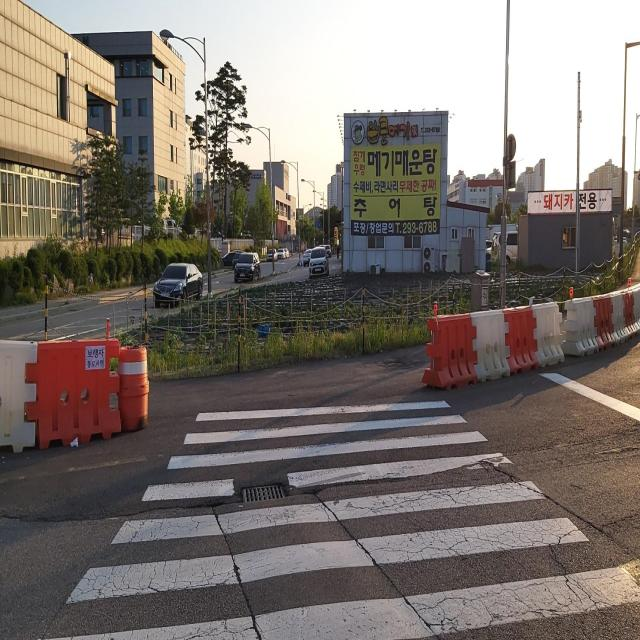횡단보도: (32, 394, 639, 640)
